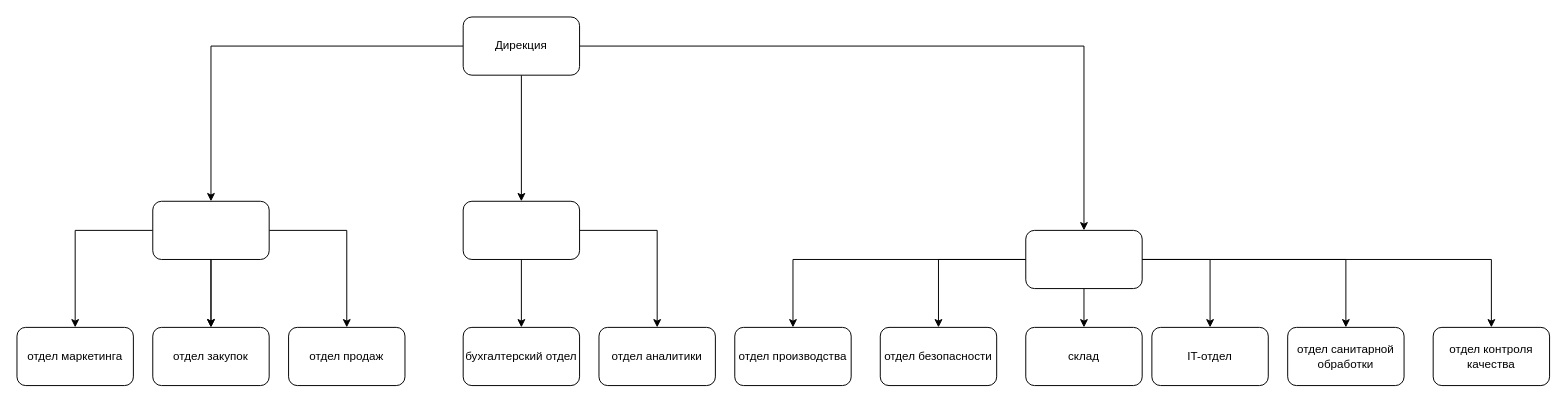
Image size: 1567x403. Some labels were removed from this diagram. Each missing label, with the box of its shape:
Комерческий отдел: (152, 200, 269, 259)
Технический отдел: (1025, 229, 1142, 289)
Финансовый отдел: (462, 200, 580, 259)
